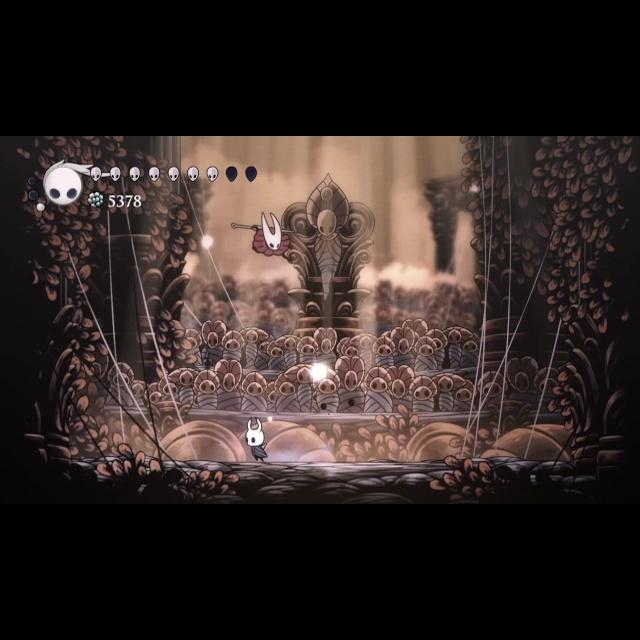EnemyLeadIn: (233, 208, 303, 266)
Player: (242, 414, 274, 466)
